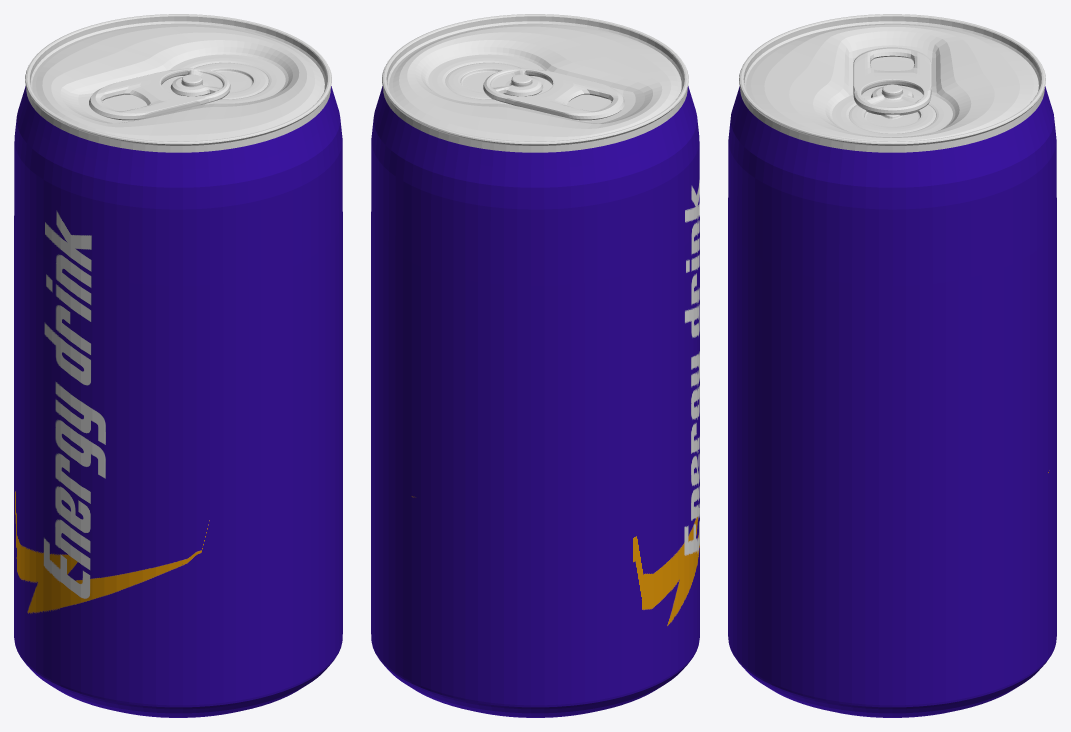
File: energy drink 02.12.2024.fbx
3 renders of one model, left to right at view 1: azimuth 30°, elevation 25°; view 2: azimuth 150°, elevation 25°; view 3: azimuth 270°, elevation 25°, orthographic.
Parts seen in each view (by area): view 1: can, tab; view 2: can, tab; view 3: can, tab.
Boxes of the visible parts, x1,y1,x2,y2 form: can: (14, 14, 342, 717); tab: (89, 68, 230, 120); can: (371, 14, 699, 717); tab: (483, 68, 624, 120); can: (728, 14, 1056, 717); tab: (853, 47, 931, 115).
Bounding box in the file's own units: 175 × 350 × 175.
